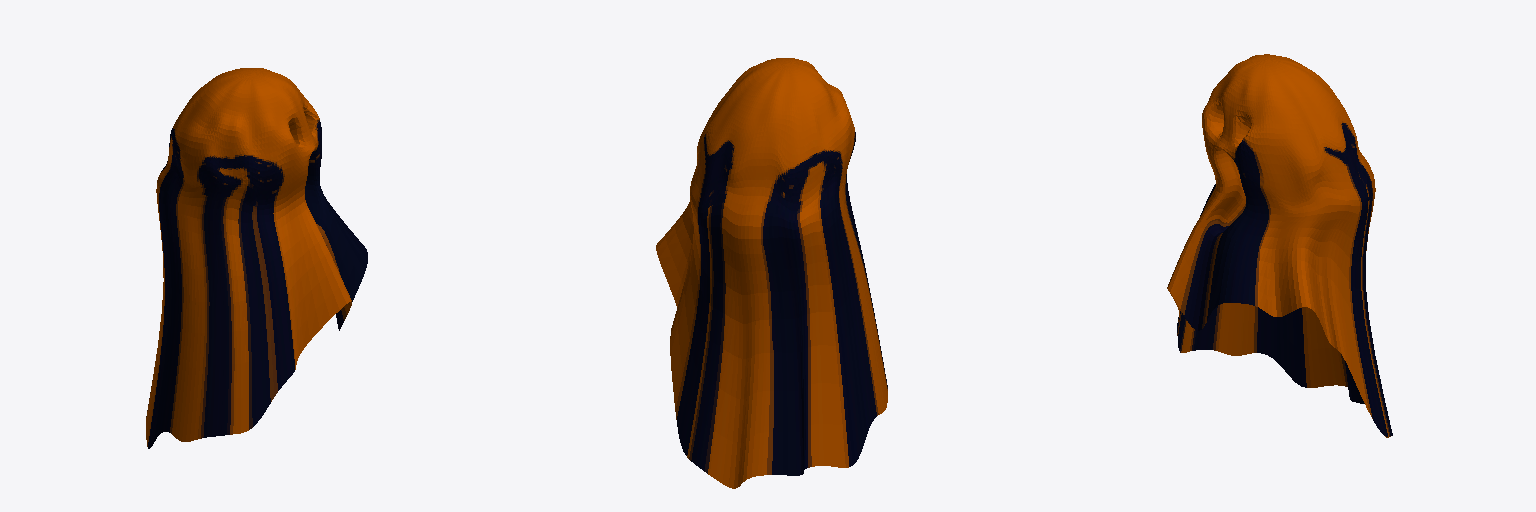
3 views of the same model, side by side, from view 1: azimuth 30°, elevation 25°; view 2: azimuth 150°, elevation 25°; view 3: azimuth 270°, elevation 25° (orthographic).
Parts seen in each view (by area): view 1: 球体; view 2: 球体; view 3: 球体.
Part boxes in pixels (left/top/right/bottom): 球体: left=146, top=68, right=367, bottom=448; 球体: left=656, top=58, right=887, bottom=488; 球体: left=1167, top=54, right=1392, bottom=437.
Size of the model in its own units: 8.63 by 15.91 by 8.58.
1 materials, 1 textured.